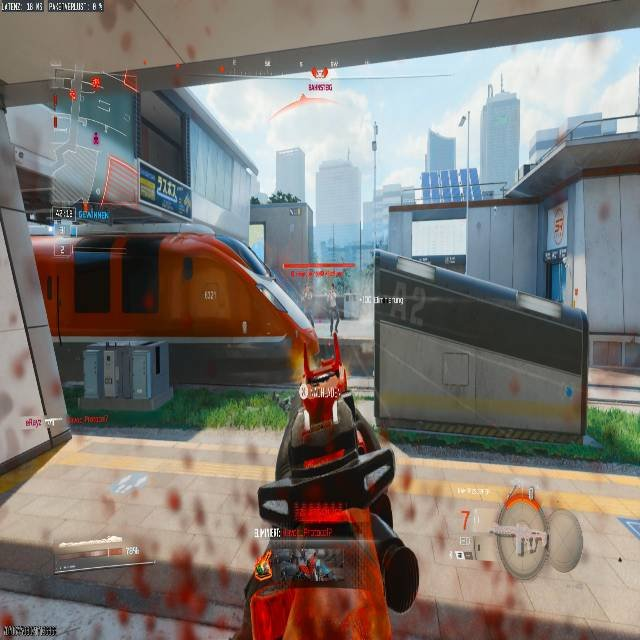player: (319, 280, 340, 334)
